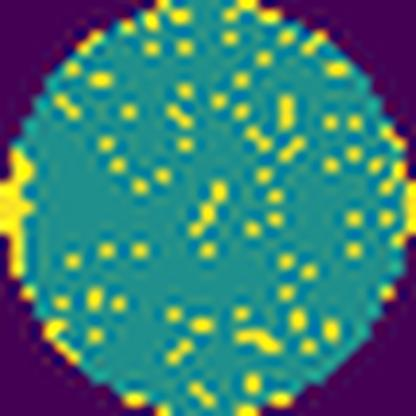Edge-Loc: (0, 143, 37, 277), (389, 180, 416, 244)
